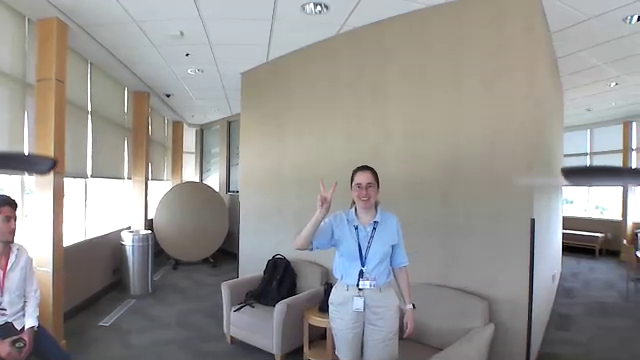peace: (314, 175, 343, 215)
